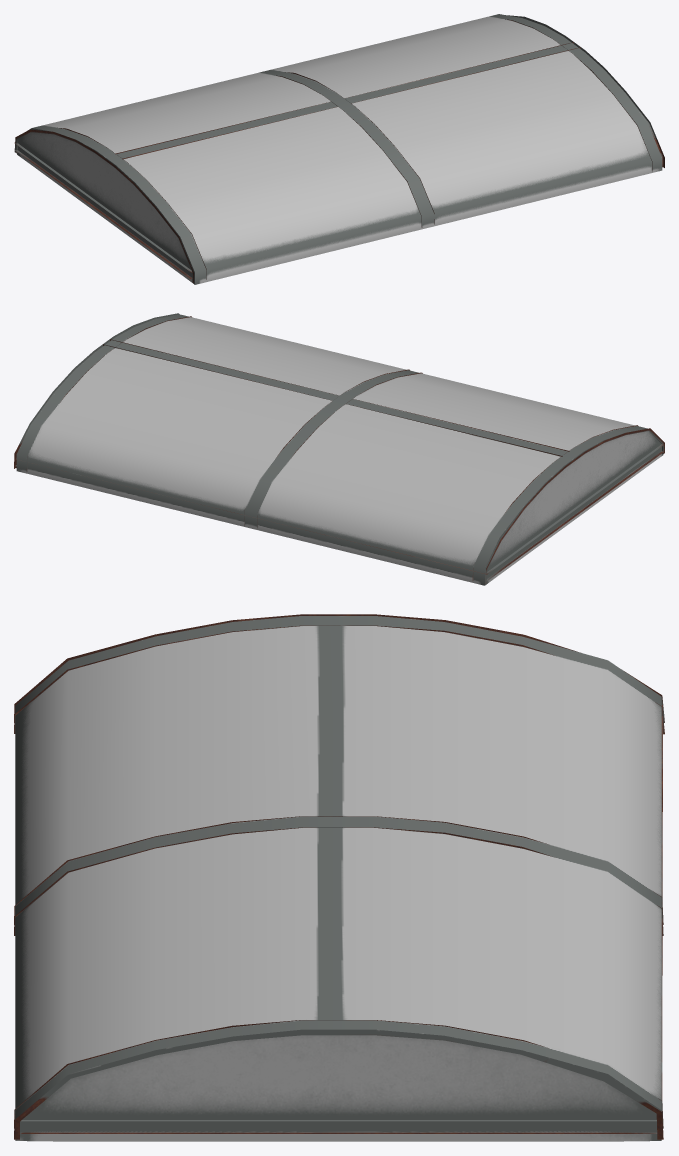
Rendered from SM_Meeting_Roof.fbx.
The picture shows the model from 3 angles, top to bottom: view 1: azimuth 30°, elevation 25°; view 2: azimuth 150°, elevation 25°; view 3: azimuth 270°, elevation 25°; orthographic projection. The views are drawn at different scales.
Parts seen in each view (by area): view 1: SM_Meeting_Roof; view 2: SM_Meeting_Roof; view 3: SM_Meeting_Roof.
Part boxes in pixels (x1=…): SM_Meeting_Roof: x1=14, y1=14, x2=664, y2=284; SM_Meeting_Roof: x1=14, y1=313, x2=664, y2=585; SM_Meeting_Roof: x1=14, y1=614, x2=664, y2=1141.
Size of the model in its own units: 349 by 230 by 44.24.
1 material, 1 textured.
